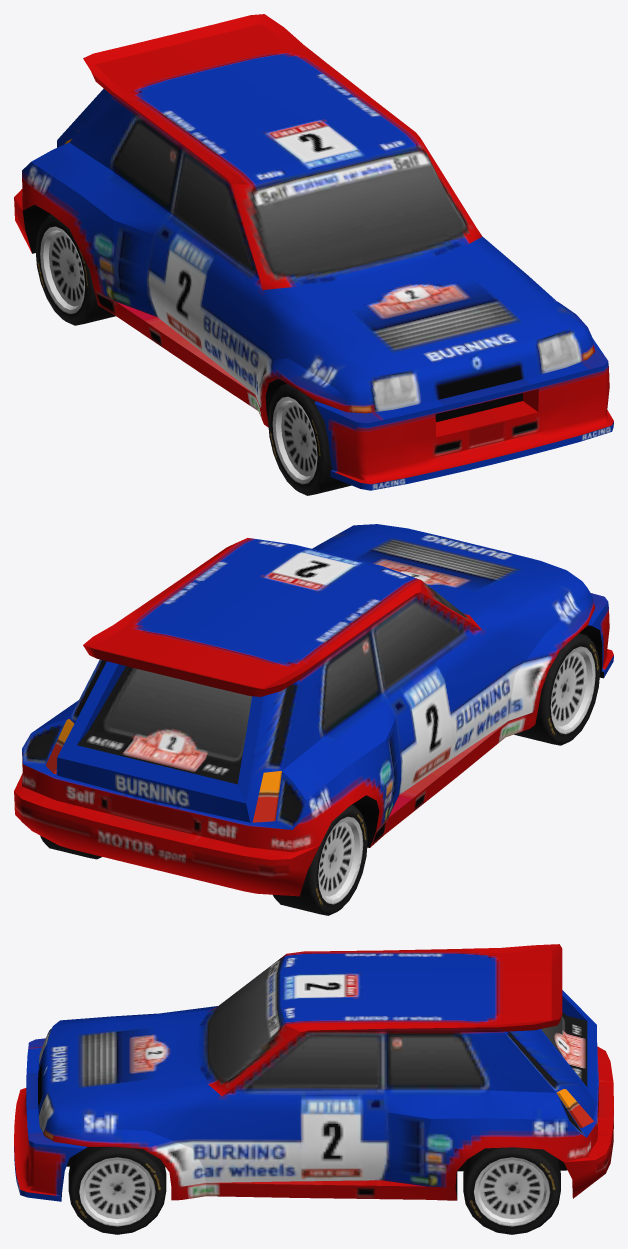
3 renders of one model, top to bottom at view 1: azimuth 30°, elevation 25°; view 2: azimuth 150°, elevation 25°; view 3: azimuth 270°, elevation 25°, orthographic. The views are drawn at different scales.
Parts seen in each view (by area): view 1: Renault R5; view 2: Renault R5; view 3: Renault R5.
Part boxes in pixels (x1=…): Renault R5: x1=14, y1=14, x2=613, y2=495; Renault R5: x1=14, y1=524, x2=613, y2=915; Renault R5: x1=14, y1=944, x2=613, y2=1234.
Size of the model in its own units: 1.78 by 1.33 by 3.67.
Materials: 5 (5 with a texture image).
